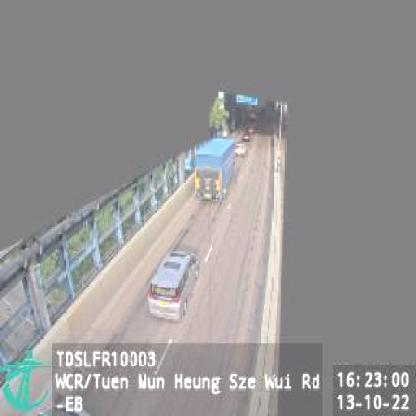Car: (145, 248, 199, 318), (235, 142, 247, 157)
Truck: (195, 140, 236, 202)
